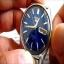watch: (18, 2, 55, 59)
